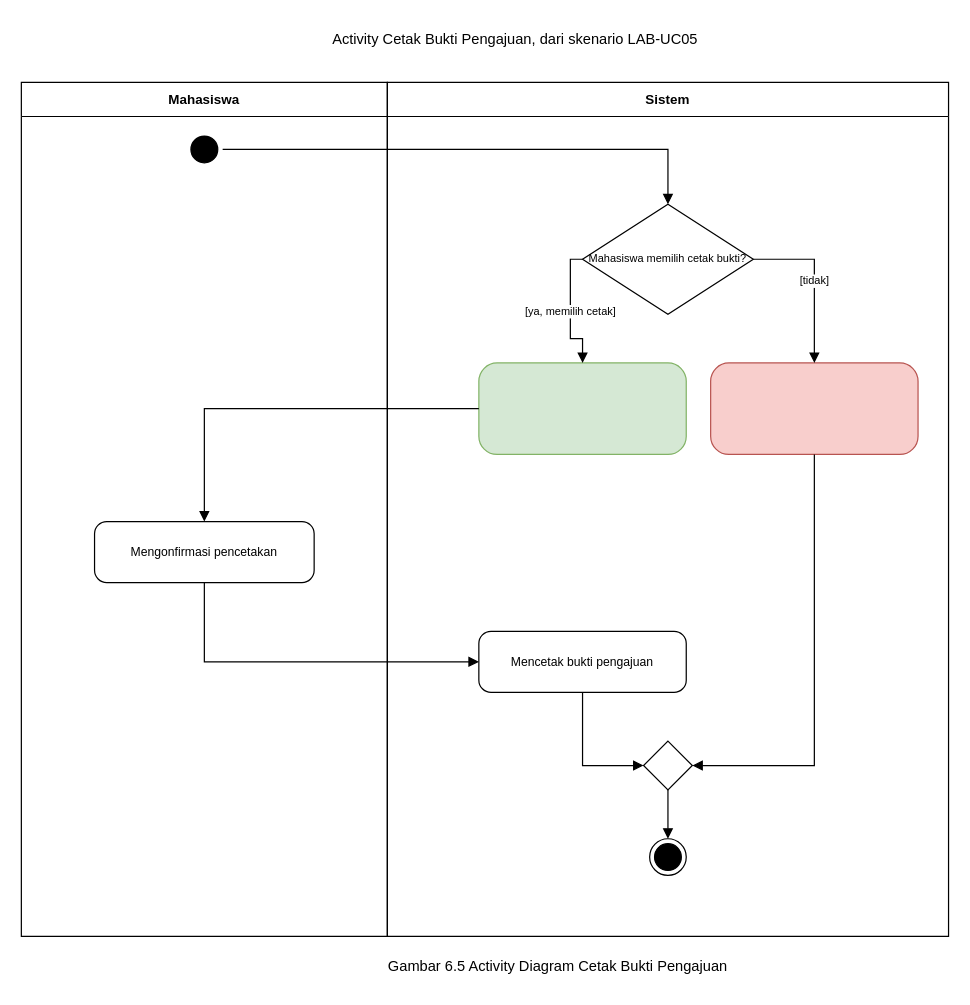
This 970x1005 diagram has some shape labels left out. The centre of each missing label's shape, as x and y in pixels:
Menampilkan bukti pengajuan dengan nomor pengajuan dan status Menunggu Keputusan: pixel 582 408
Menutup konfirmasi tanpa mencetak bukti dan pengajuan tetap tersimpan: pixel 813 408
